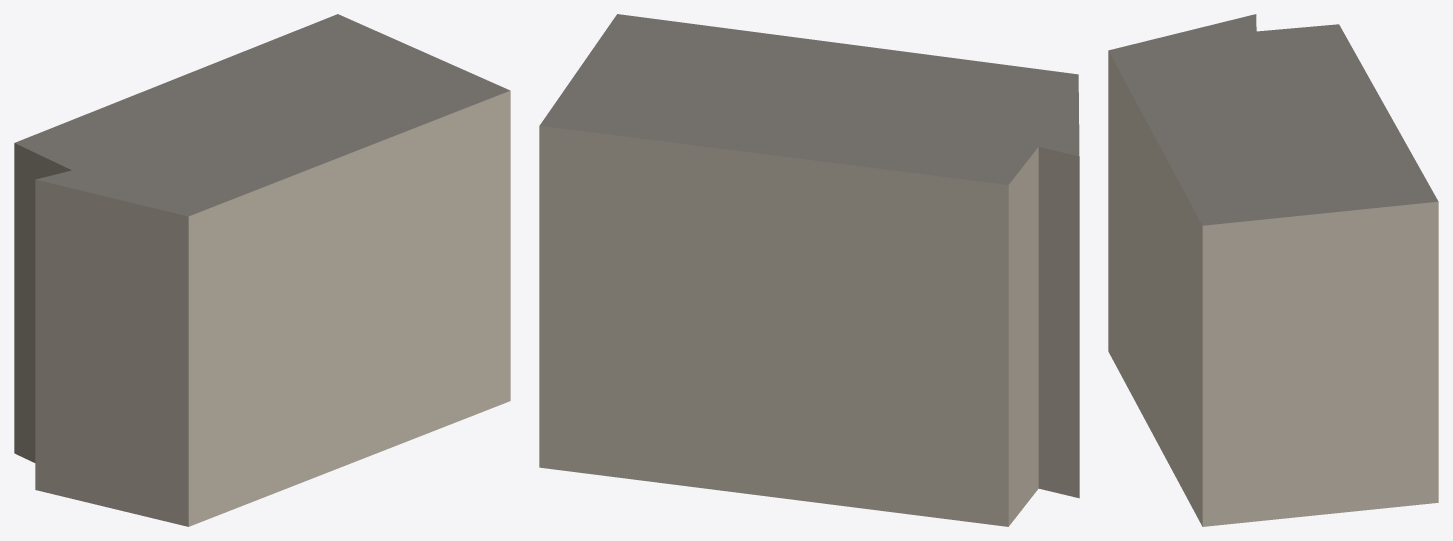
3 renders of one model, left to right at view 1: azimuth 30°, elevation 25°; view 2: azimuth 150°, elevation 25°; view 3: azimuth 270°, elevation 25°, orthographic. The views are drawn at different scales.
Parts seen in each view (by area): view 1: HP-w299010093; view 2: HP-w299010093; view 3: HP-w299010093.
Boxes of the visible parts, x1,y1,x2,y2 form: HP-w299010093: (14,14,510,526); HP-w299010093: (539,14,1079,526); HP-w299010093: (1108,14,1438,526).
Size of the model in its own units: 27.15 by 18 by 17.88.
